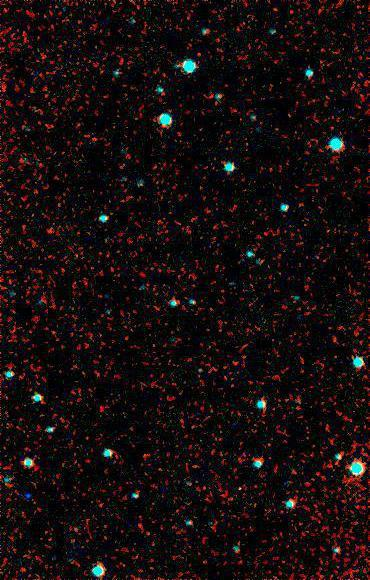star: (13, 476, 43, 506)
